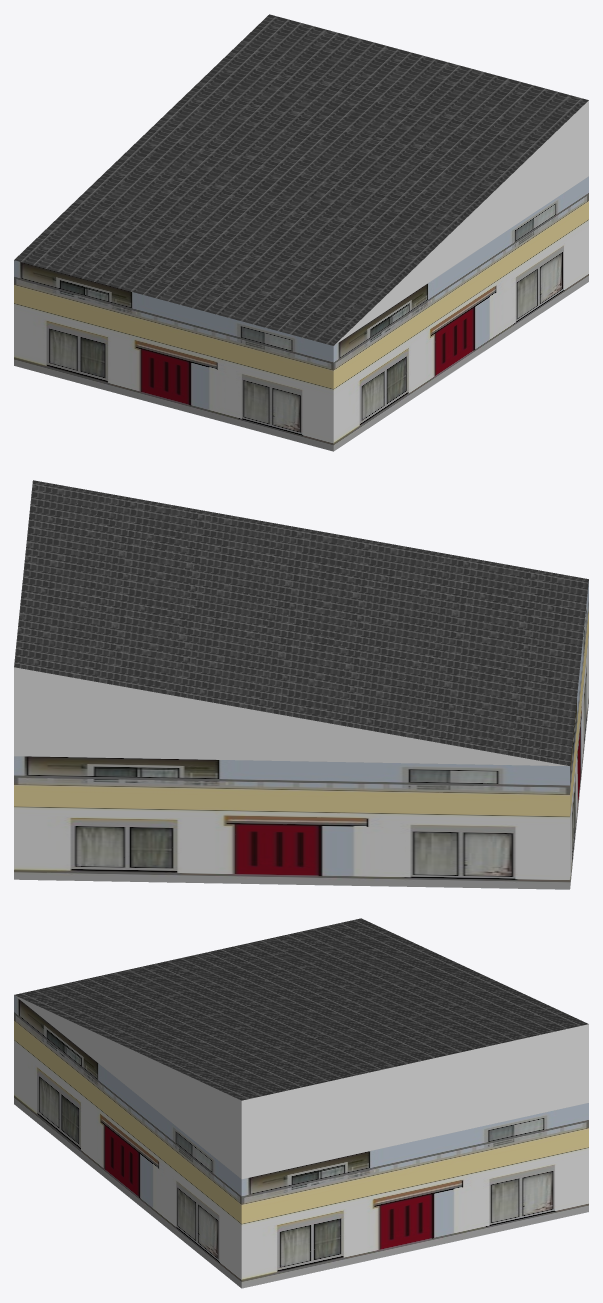
3 renders of one model, top to bottom at view 1: azimuth 30°, elevation 25°; view 2: azimuth 150°, elevation 25°; view 3: azimuth 270°, elevation 25°, orthographic. The views are drawn at different scales.
Visible parts, largest first — view 1: CityEngineMaterial_16_m, CityEngineMaterial_15_m, CityEngineMaterial_3_m; view 2: CityEngineMaterial_16_m, CityEngineMaterial_15_m, CityEngineMaterial_3_m; view 3: CityEngineMaterial_15_m, CityEngineMaterial_16_m, CityEngineMaterial_3_m.
Boxes of the visible parts, bbox=[...] form: CityEngineMaterial_16_m: bbox=[14, 14, 588, 345]; CityEngineMaterial_15_m: bbox=[14, 176, 588, 451]; CityEngineMaterial_3_m: bbox=[335, 100, 588, 344]; CityEngineMaterial_16_m: bbox=[14, 480, 588, 765]; CityEngineMaterial_15_m: bbox=[14, 581, 588, 889]; CityEngineMaterial_3_m: bbox=[14, 667, 569, 766]; CityEngineMaterial_15_m: bbox=[14, 995, 588, 1288]; CityEngineMaterial_16_m: bbox=[14, 918, 588, 1100]; CityEngineMaterial_3_m: bbox=[14, 995, 588, 1179].
Bounding box in the file's own units: 41.26 × 13.85 × 38.42.
